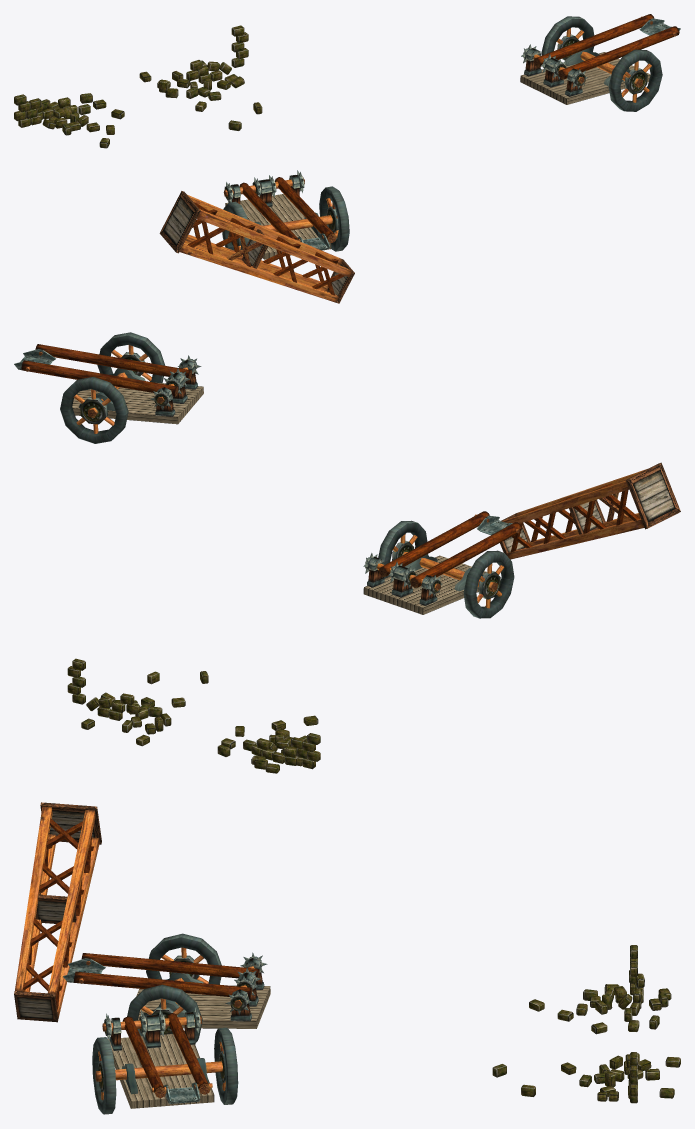
Rendered from CONTRAPTION5_STATIC.fbx.
The picture shows the model from 3 angles, top to bottom: view 1: azimuth 30°, elevation 25°; view 2: azimuth 150°, elevation 25°; view 3: azimuth 270°, elevation 25°; orthographic projection. The views are drawn at different scales.
Parts seen in each view (by area): view 1: CONTRAPTION5_STATIC; view 2: CONTRAPTION5_STATIC; view 3: CONTRAPTION5_STATIC.
Boxes of the visible parts, bbox=[...] form: CONTRAPTION5_STATIC: bbox=[14, 14, 680, 303]; CONTRAPTION5_STATIC: bbox=[14, 332, 680, 773]; CONTRAPTION5_STATIC: bbox=[14, 802, 680, 1114].
Size of the model in its own units: 235789 by 59838 by 206131.
13 materials, 13 textured.
